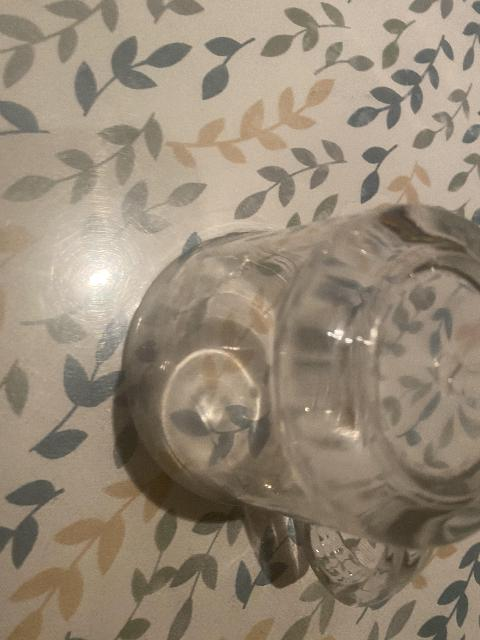Cam: (117, 201, 480, 609)
